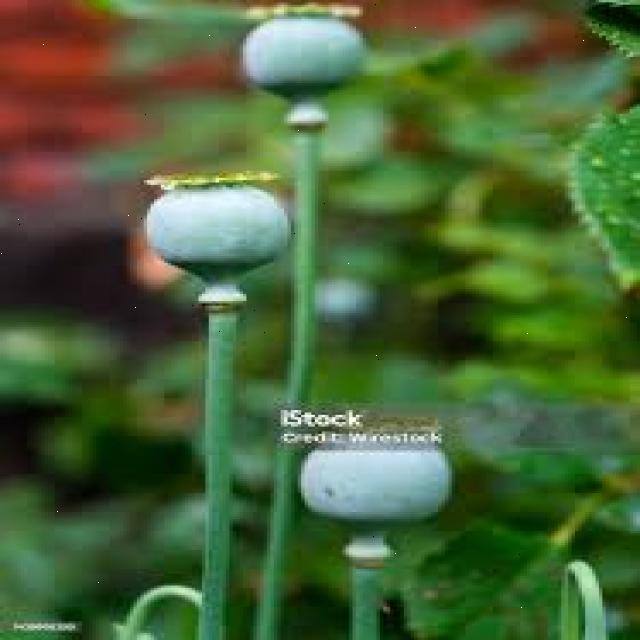Unbloomed: (137, 171, 291, 282)
